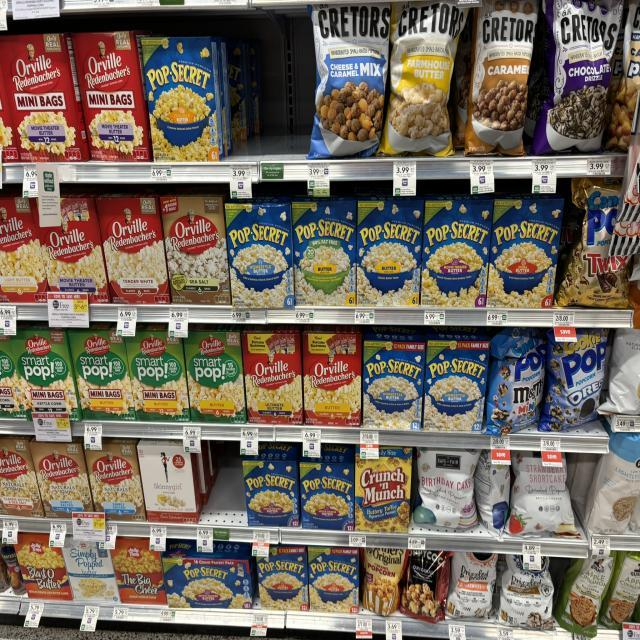Popcorn: (0, 33, 90, 163), (141, 37, 225, 162), (72, 32, 151, 162), (486, 195, 564, 308), (420, 197, 494, 307), (96, 195, 170, 304), (160, 195, 231, 305), (225, 197, 295, 308), (356, 197, 424, 307), (40, 197, 110, 303), (291, 197, 356, 307), (10, 325, 81, 420), (422, 335, 490, 432), (69, 323, 136, 420), (126, 323, 191, 422), (362, 328, 425, 430), (162, 540, 254, 609), (241, 325, 304, 425), (302, 327, 362, 427), (185, 327, 246, 423), (138, 440, 202, 523), (85, 438, 146, 522), (0, 197, 48, 303), (242, 442, 300, 527), (355, 447, 412, 532), (300, 443, 355, 531), (30, 440, 92, 518), (15, 532, 72, 600), (111, 537, 166, 605), (0, 437, 45, 517), (62, 540, 120, 602), (256, 545, 309, 611), (308, 547, 359, 613), (0, 335, 26, 418)
Snack: (531, 0, 622, 155), (380, 0, 468, 157), (309, 3, 390, 158), (465, 0, 539, 154), (555, 178, 630, 308), (539, 328, 609, 432), (486, 327, 546, 435), (506, 452, 576, 535), (585, 433, 640, 533), (414, 448, 481, 528), (554, 552, 616, 638), (605, 0, 640, 150), (499, 555, 554, 630), (400, 550, 451, 623), (599, 328, 640, 415), (445, 552, 498, 618), (361, 548, 409, 617), (599, 552, 640, 629), (474, 450, 510, 537)
